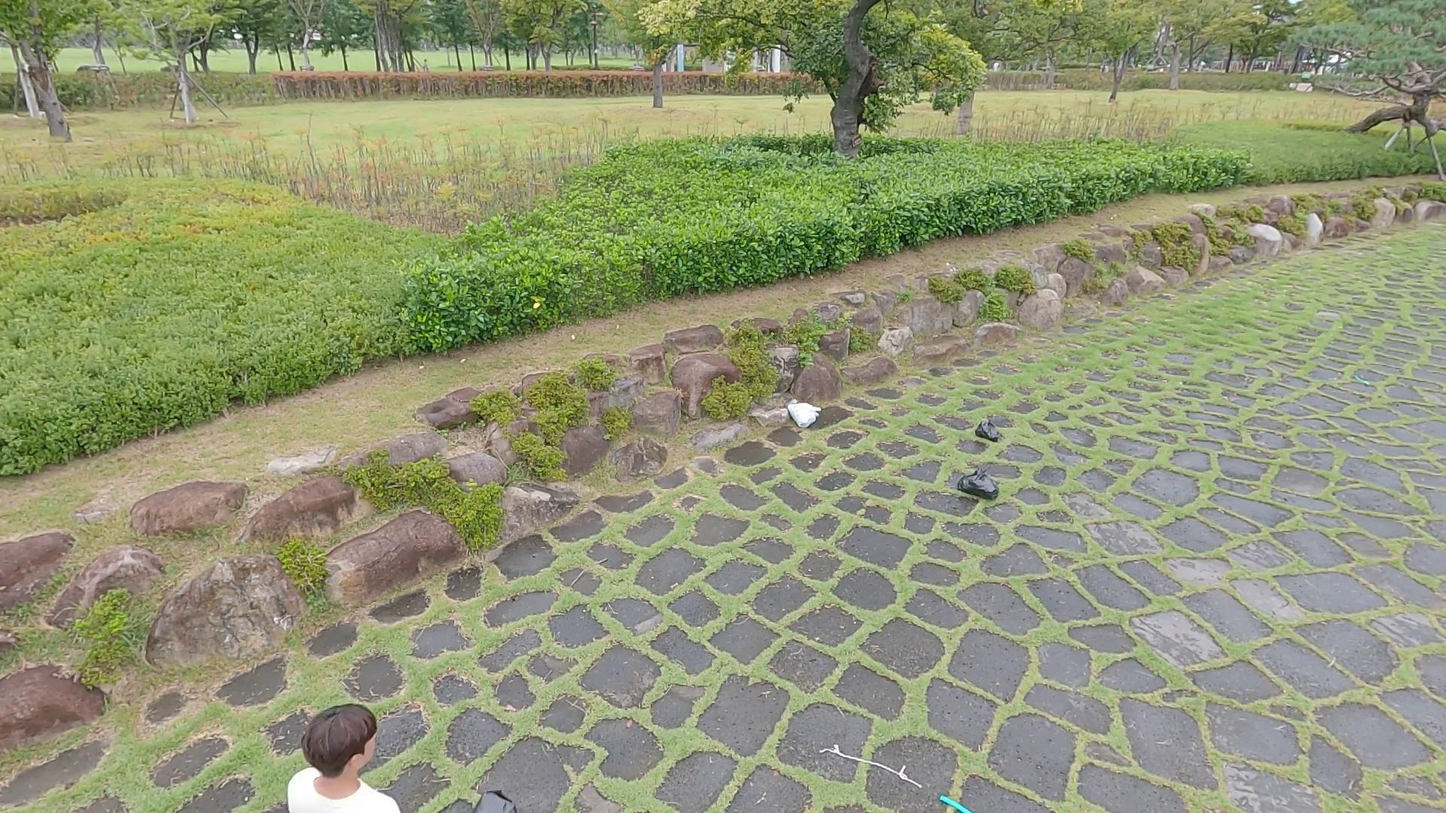person: (281, 701, 414, 813)
trash: (956, 466, 1000, 500), (787, 398, 822, 430), (975, 413, 1000, 440)
